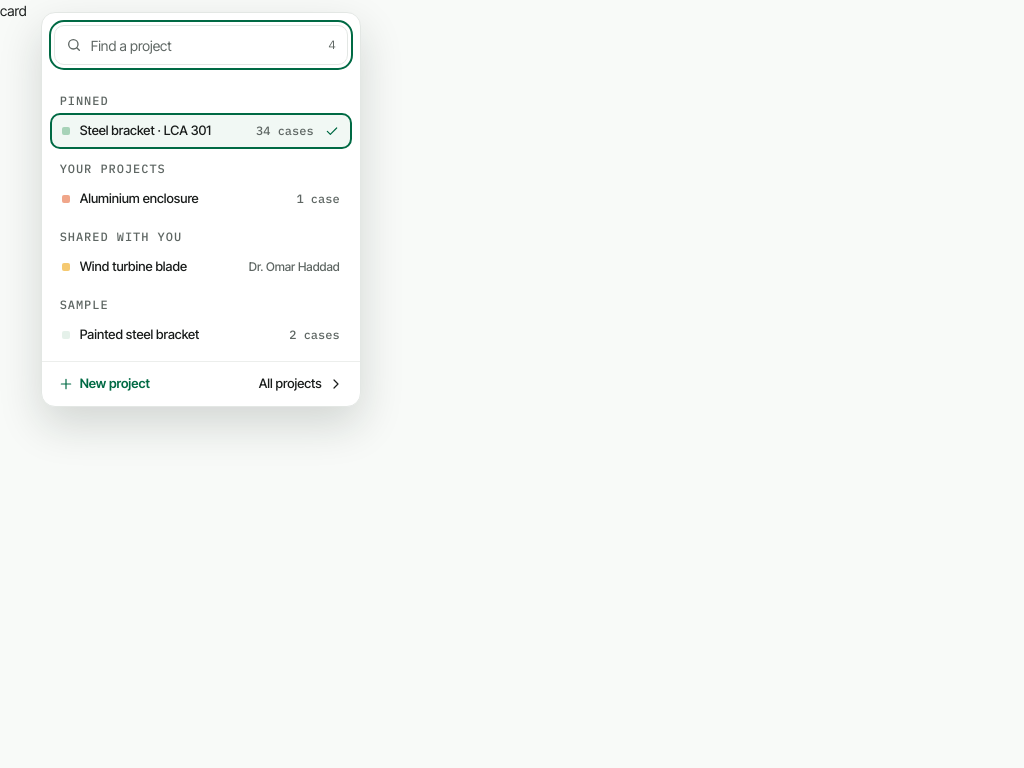
Test: ProjectSwitcher › typing filters (by name or owner); nothing matching says so
The width and height of the screenshot is (1024, 768).
Type "haddad" into the dropdown at (201, 45), box [54, 25, 348, 65]
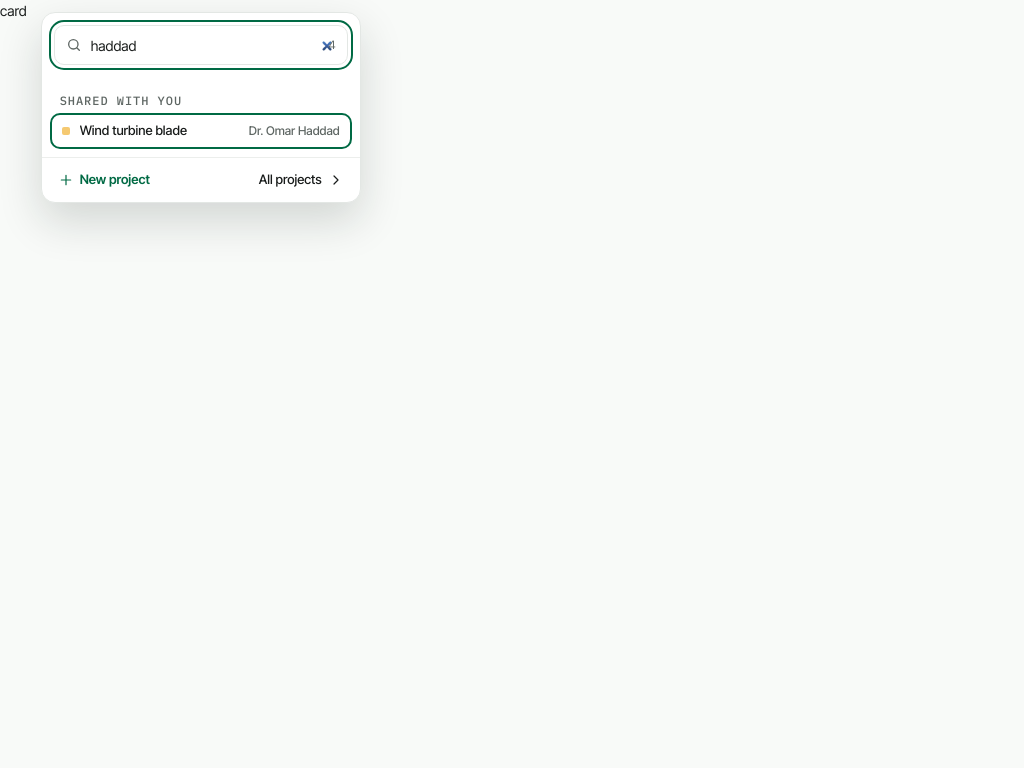
Check: the options read "Wind turbine bladeDr. Omar Haddad", in this order, box [50, 113, 352, 149]
Replace the text in the dropdown with "zzz" at (201, 45), box [54, 25, 348, 65]
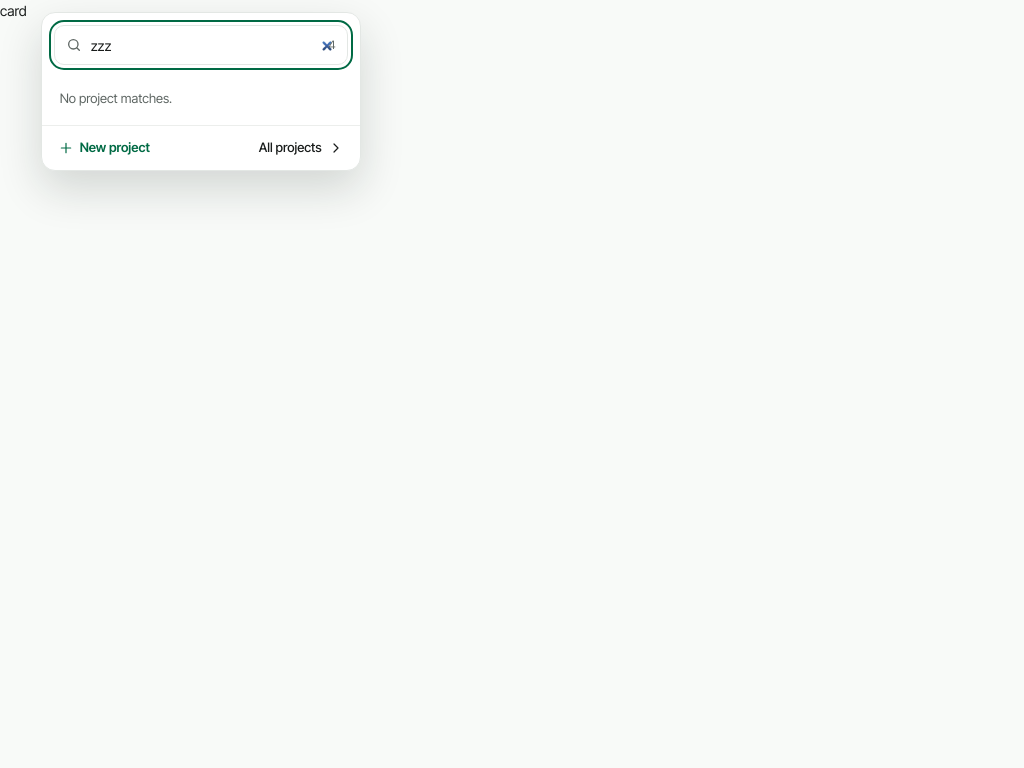
Check: the text "No project matches." is shown, box [60, 90, 172, 106]
